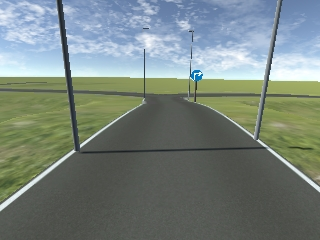right: (190, 70, 204, 82)
